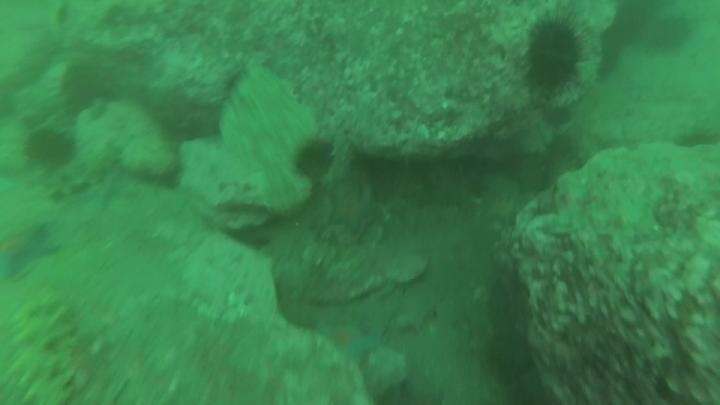echinus: (522, 14, 587, 94), (58, 60, 119, 114), (483, 328, 536, 382), (23, 126, 78, 170), (640, 12, 695, 55), (291, 136, 337, 181), (671, 122, 718, 152)
holothurian: (3, 293, 83, 405), (43, 141, 124, 203), (321, 128, 355, 189)
starfish: (1, 219, 62, 282), (316, 316, 382, 366), (324, 183, 382, 238)
